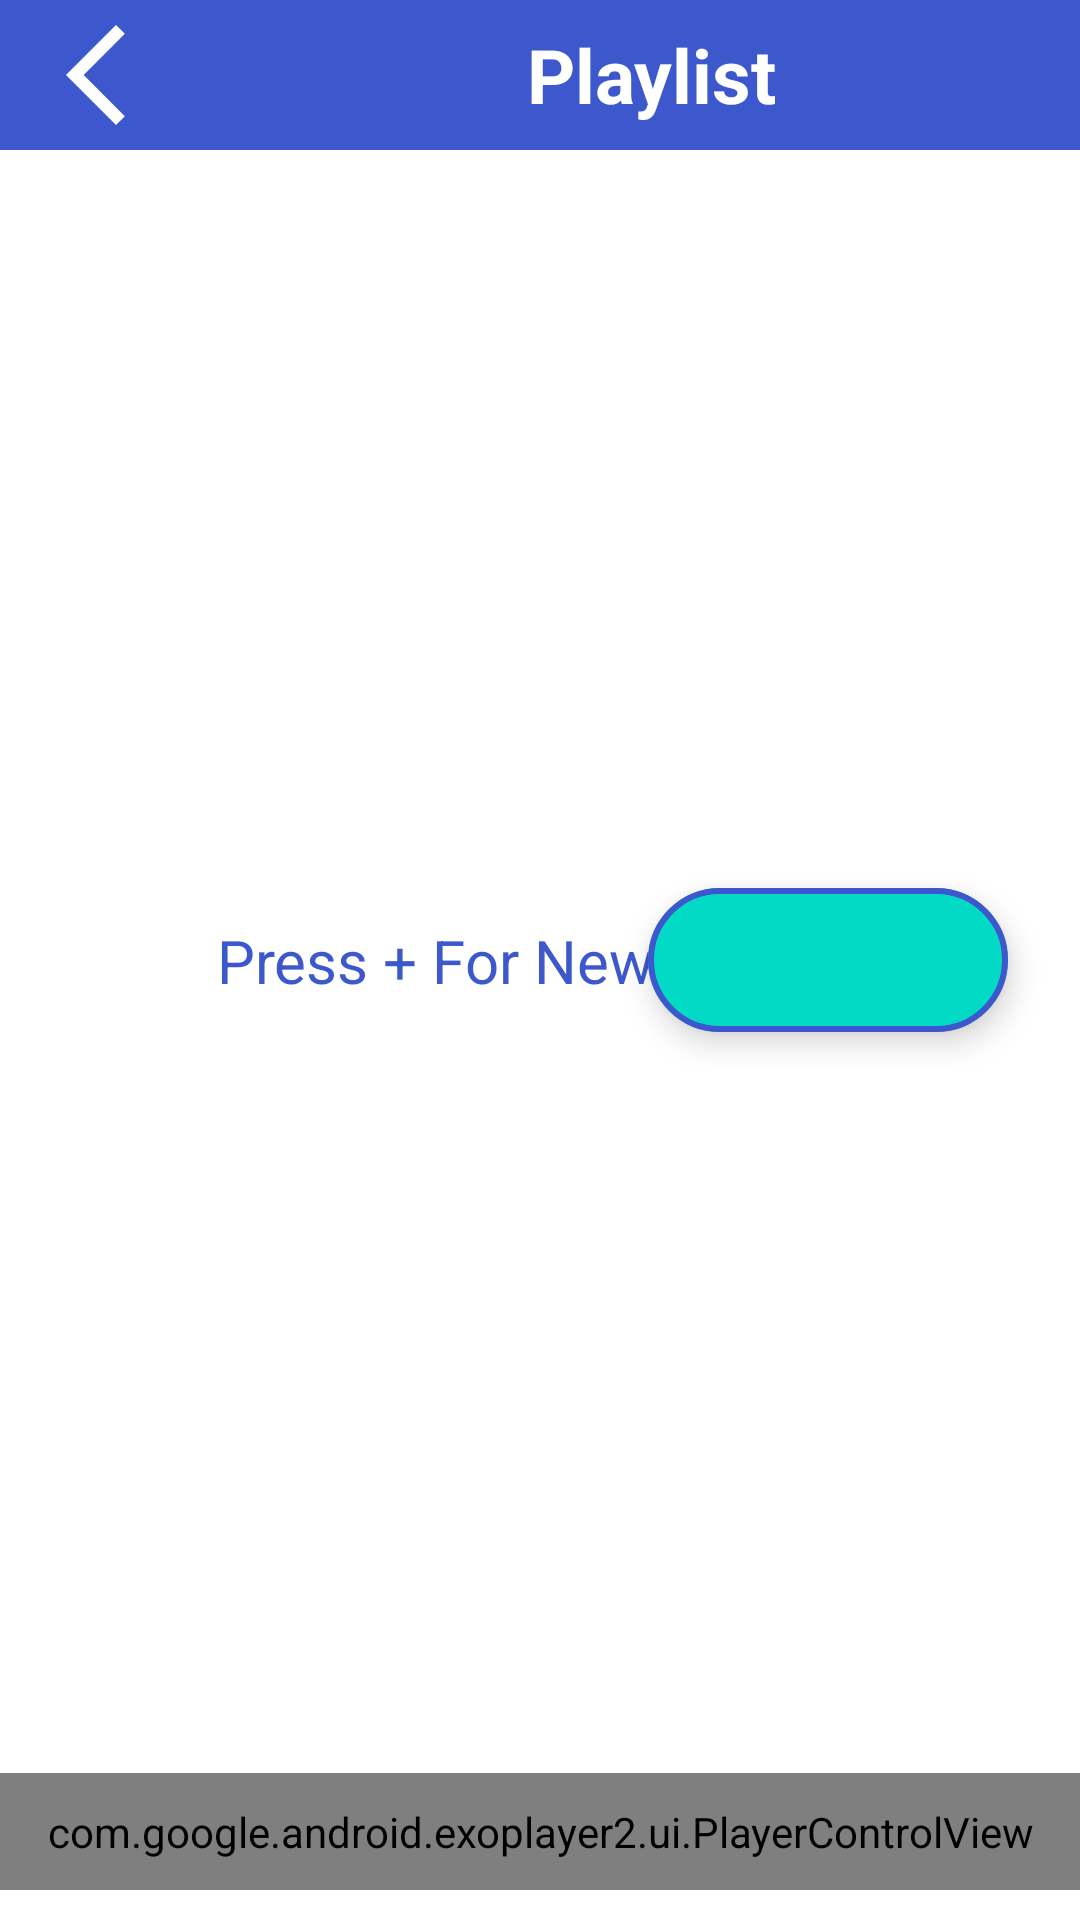

Named icons in this screenshot (1080x1920) and their centers, point (x, y):
arrow back: point (95, 75)
